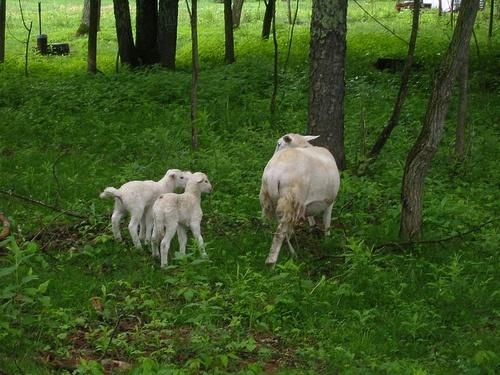sheep: (260, 135, 342, 269), (101, 170, 188, 252), (150, 172, 215, 269)
